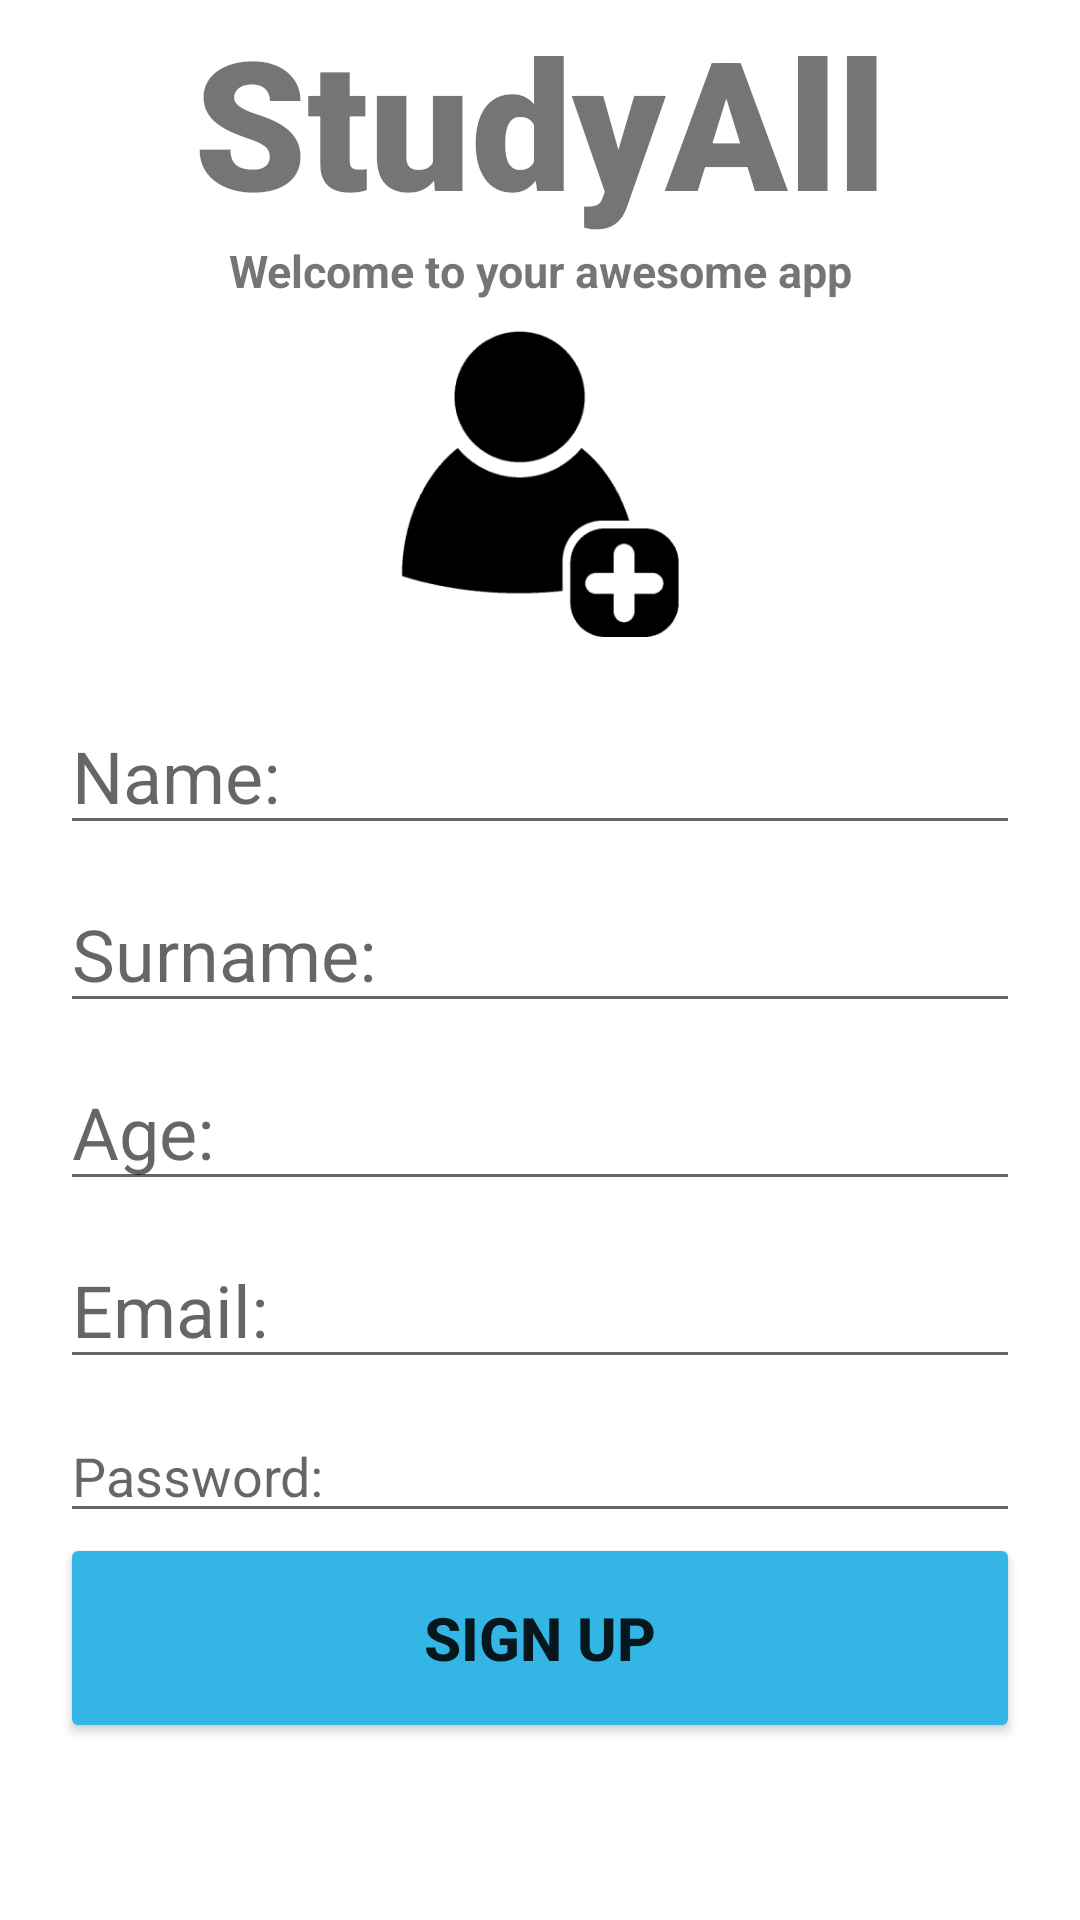

Where to tap for icons on this 1080w x 1920h app screen, as point (x, y):
signup: point (540, 484)
